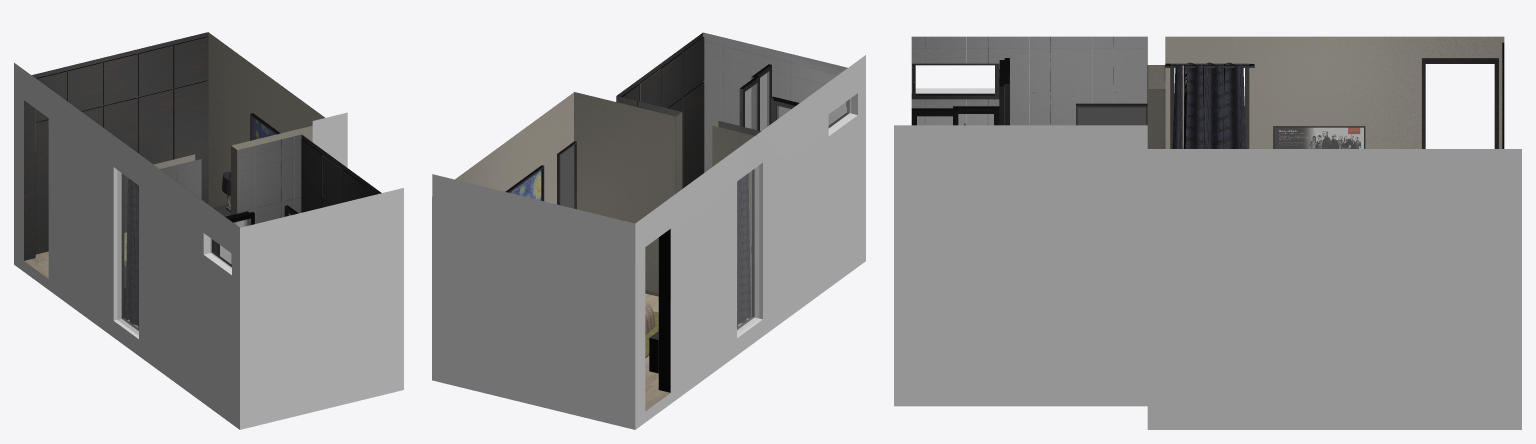
Rendered from cuarto08b.glb.
3 renders of one model, left to right at view 1: azimuth 30°, elevation 25°; view 2: azimuth 150°, elevation 25°; view 3: azimuth 270°, elevation 25°, orthographic. The views are drawn at different scales.
Parts seen in each view (by area): view 1: Cascaron.001, Cuarto_Recamara, Cuarto_Baño, Vidrio_3, Recamara, Baño; view 2: Cascaron.001, Cuarto_Recamara, Cuarto_Baño, Vidrio_3, Recamara, Baño, Vidrio_2, Espejo_2; view 3: Cascaron.001, Cuarto_Recamara, Cuarto_Baño, TV, Baño, Espejo, Vidrio_2.
Part boxes in pixels (<box>): Cascaron.001: <box>14,63,403,429</box>; Cuarto_Recamara: <box>24,32,324,330</box>; Cuarto_Baño: <box>160,134,381,266</box>; Vidrio_3: <box>117,170,138,335</box>; Recamara: <box>124,113,280,319</box>; Baño: <box>214,205,298,255</box>; Cascaron.001: <box>432,55,865,429</box>; Cuarto_Recamara: <box>455,92,754,410</box>; Cuarto_Baño: <box>616,32,849,188</box>; Vidrio_3: <box>737,166,758,334</box>; Recamara: <box>505,141,658,373</box>; Baño: <box>739,64,799,130</box>; Vidrio_2: <box>745,72,790,130</box>; Espejo_2: <box>560,145,574,208</box>; Cascaron.001: <box>894,88,1521,429</box>; Cuarto_Recamara: <box>1147,36,1504,148</box>; Cuarto_Baño: <box>911,36,1147,125</box>; TV: <box>1273,126,1365,148</box>; Baño: <box>911,58,1147,125</box>; Espejo: <box>1077,107,1145,125</box>; Vidrio_2: <box>917,114,993,124</box>.
Bounding box in the file's own units: 0.6255 × 0.6069 × 1.23.
Materials: 7 (5 with a texture image).
